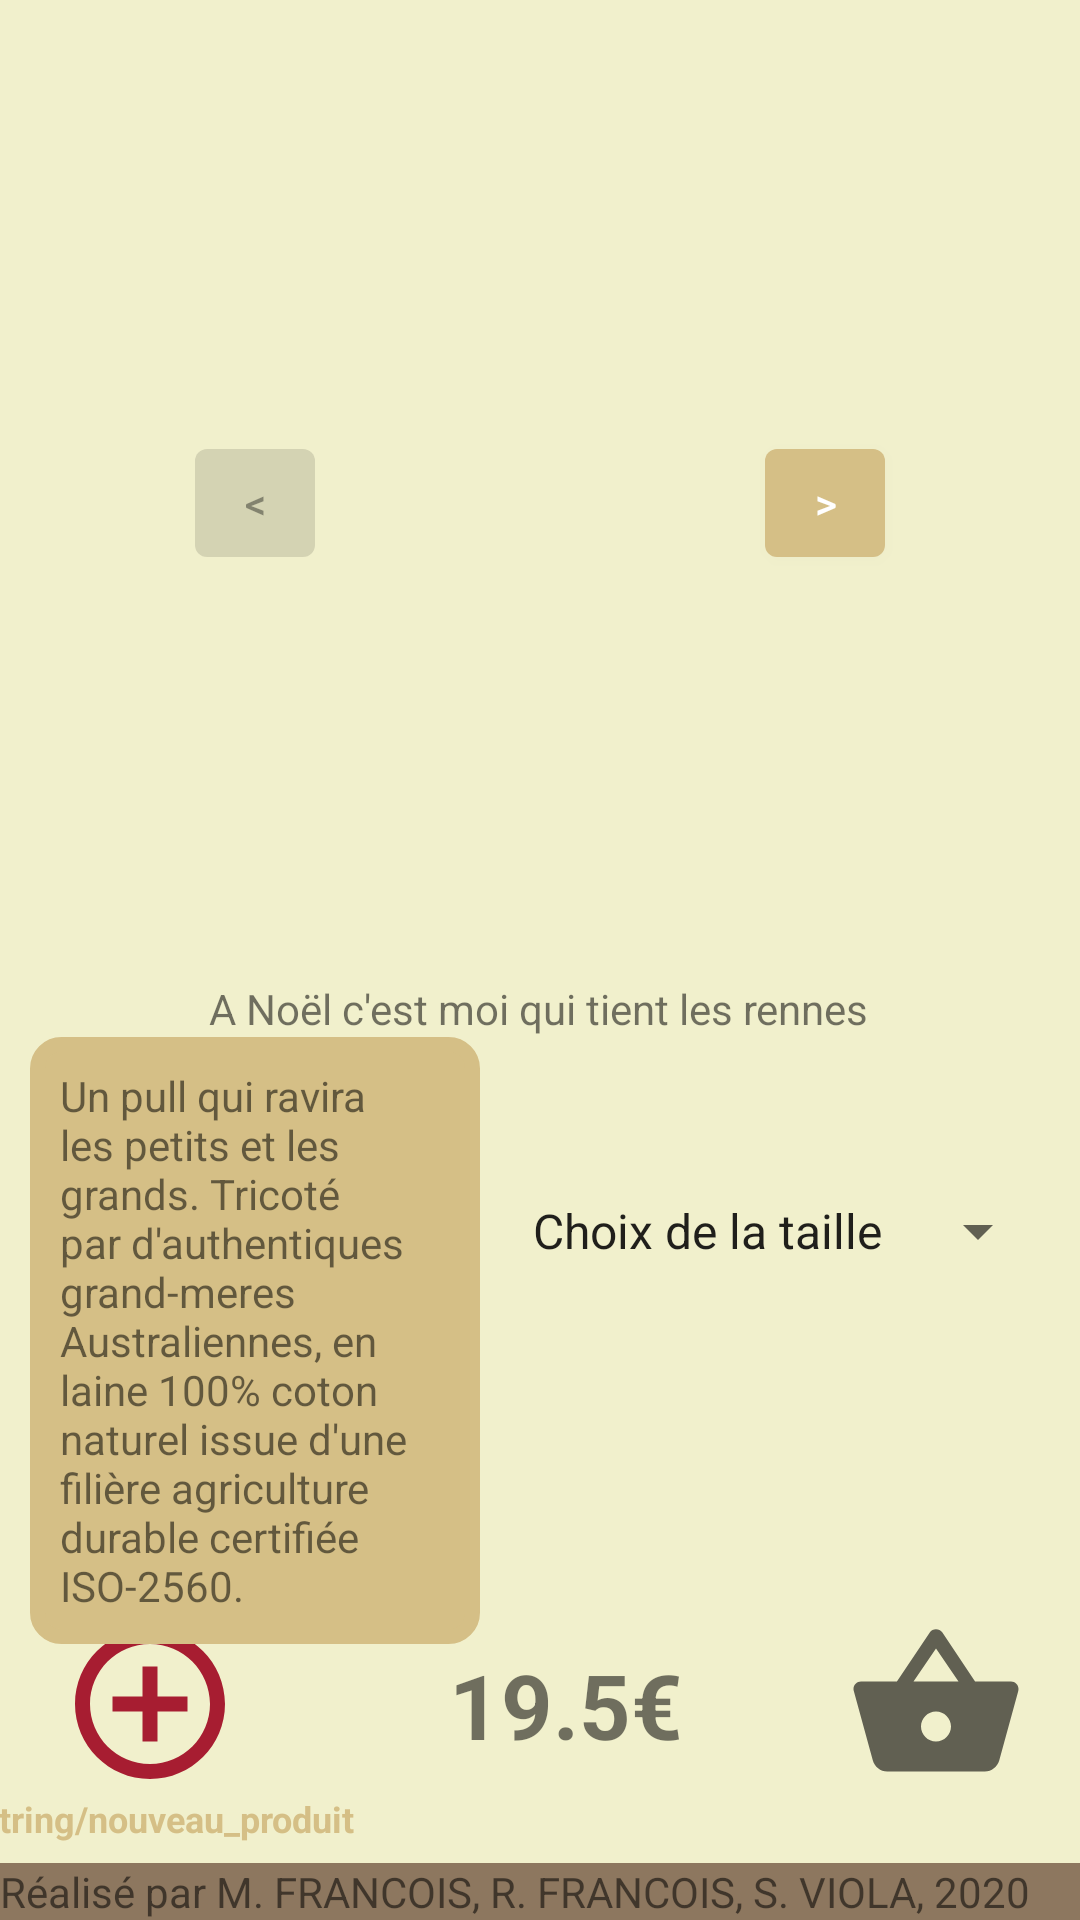

Point at icon controls on the screen. Image size 1080*1920, points as (x,y).
add circle: (150,1696)
shopping basket: (936,1700)
